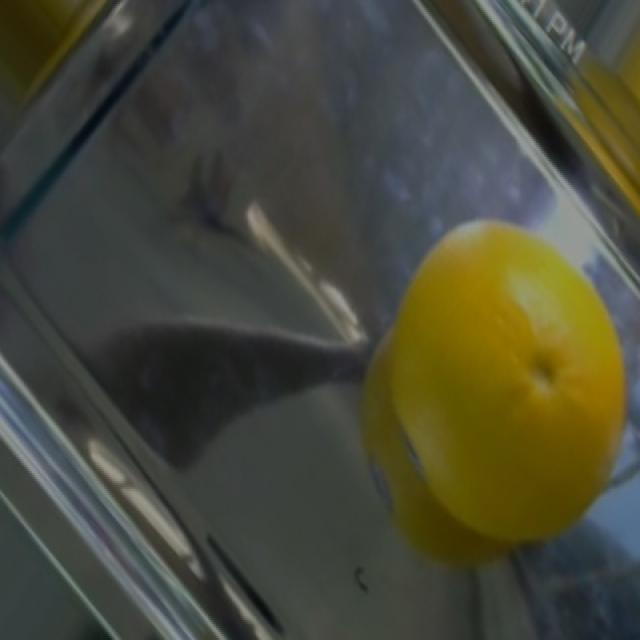Fruit: (348, 197, 633, 513)
